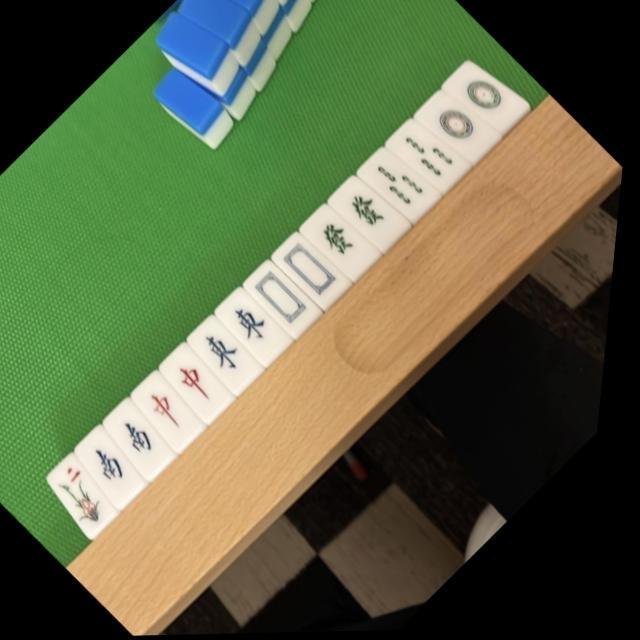bs2: (50, 458, 135, 536)
hdg: (338, 179, 406, 242), (308, 208, 374, 270)
hdr: (165, 348, 242, 418), (138, 376, 213, 445)
hdw: (276, 234, 356, 308), (248, 262, 326, 334)
hwe: (193, 318, 270, 389), (222, 292, 299, 362)
hws: (111, 404, 185, 472), (85, 431, 157, 498)
sb3: (390, 119, 471, 192), (365, 148, 439, 216)
sd1: (449, 62, 526, 134), (422, 92, 496, 159)
